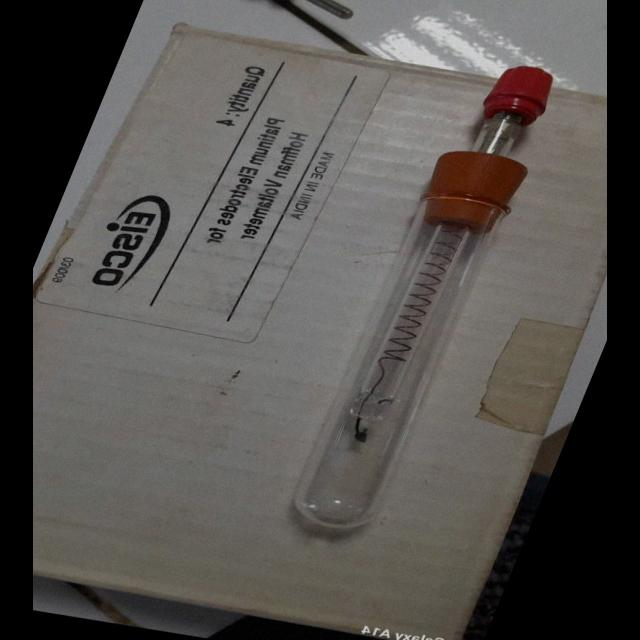Electrode: (269, 51, 578, 538)
